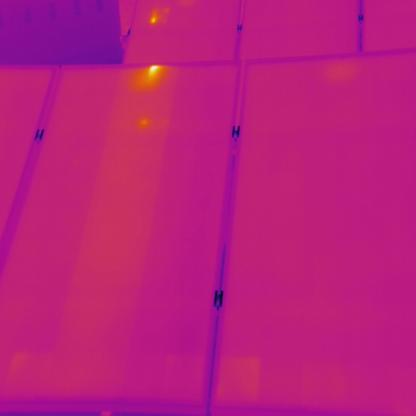hotspot: (142, 62, 160, 83), (150, 9, 170, 26), (142, 118, 152, 127)
